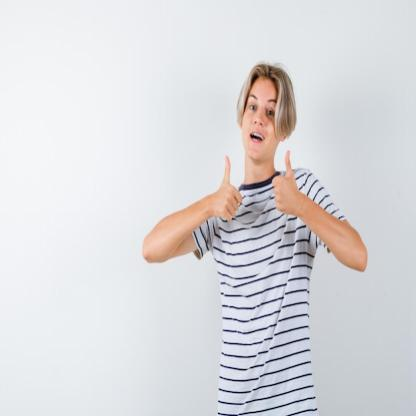thumb_up: (207, 153, 244, 224), (270, 146, 300, 216)
